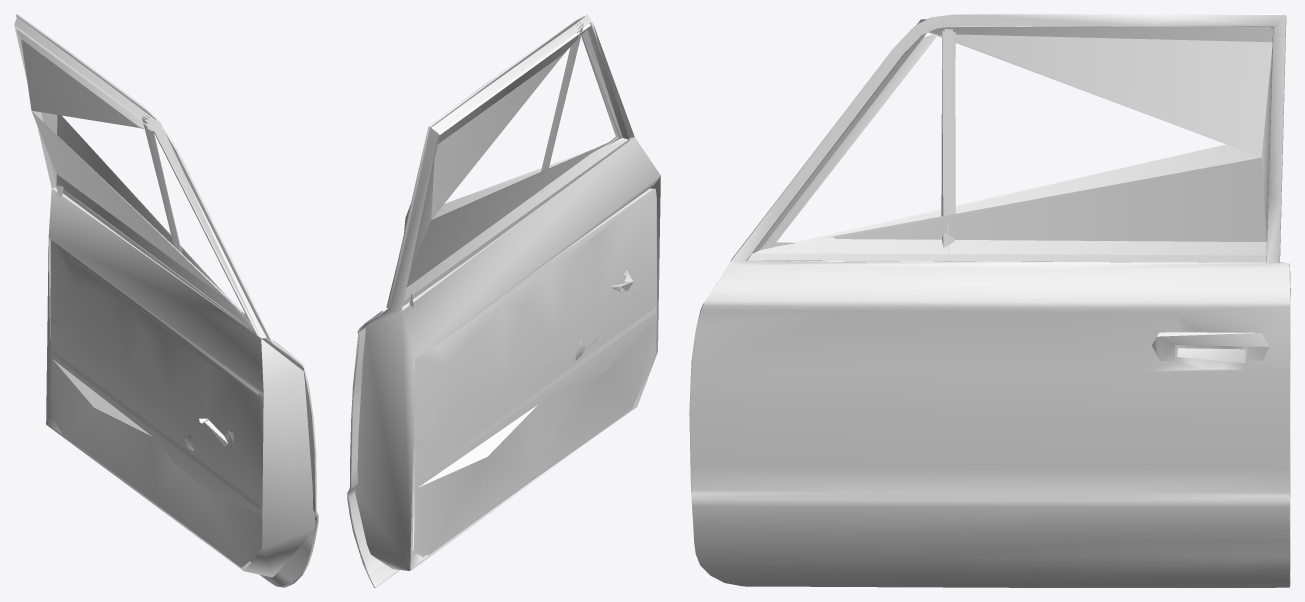
The picture shows the model from 3 angles, left to right: view 1: azimuth 30°, elevation 25°; view 2: azimuth 150°, elevation 25°; view 3: azimuth 270°, elevation 25°; orthographic projection. The views are drawn at different scales.
Bounding box in the file's own units: 0.1817 × 0.9499 × 0.951.
1 material, 1 textured.
